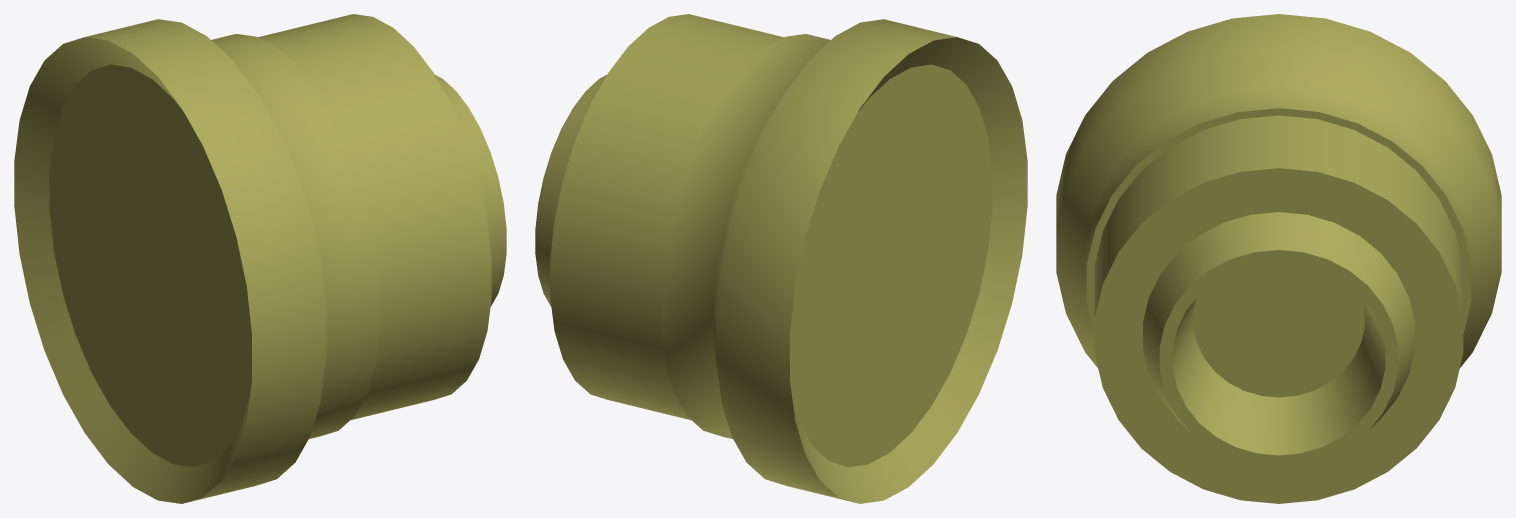
File: Engine 01.fbx
The picture shows the model from 3 angles, left to right: view 1: azimuth 30°, elevation 25°; view 2: azimuth 150°, elevation 25°; view 3: azimuth 270°, elevation 25°; orthographic projection. The views are drawn at different scales.
Visible parts, largest first — view 1: pCylinder1; view 2: pCylinder1; view 3: pCylinder1.
Part boxes in pixels (<box>): pCylinder1: <box>14,14,506,503</box>; pCylinder1: <box>535,14,1027,503</box>; pCylinder1: <box>1056,14,1501,503</box>.
Bounding box in the file's own units: 1.23 × 1.64 × 1.63.
